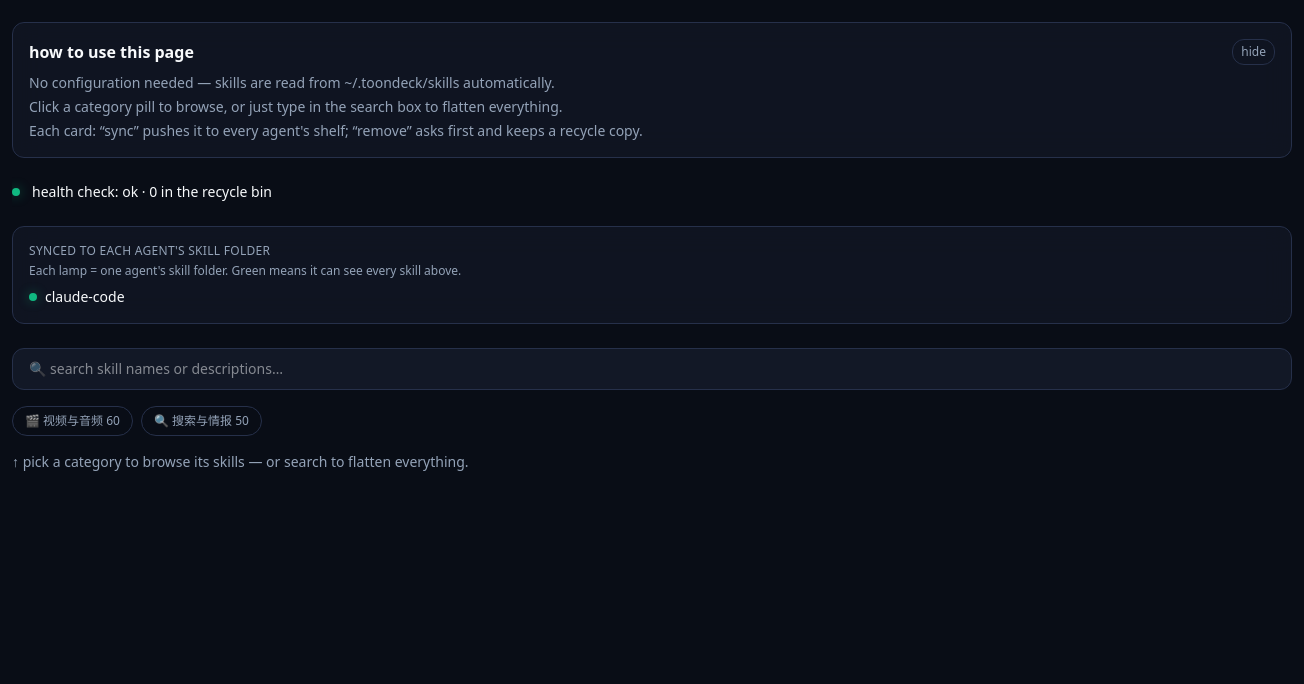
Scenario: N: progressive card windows › switching categories resets the window
Click the button with test id "category-pill-🎬 视频与音频".
click(72, 421)  # box 12,406 -> 133,436
(page scrolled)
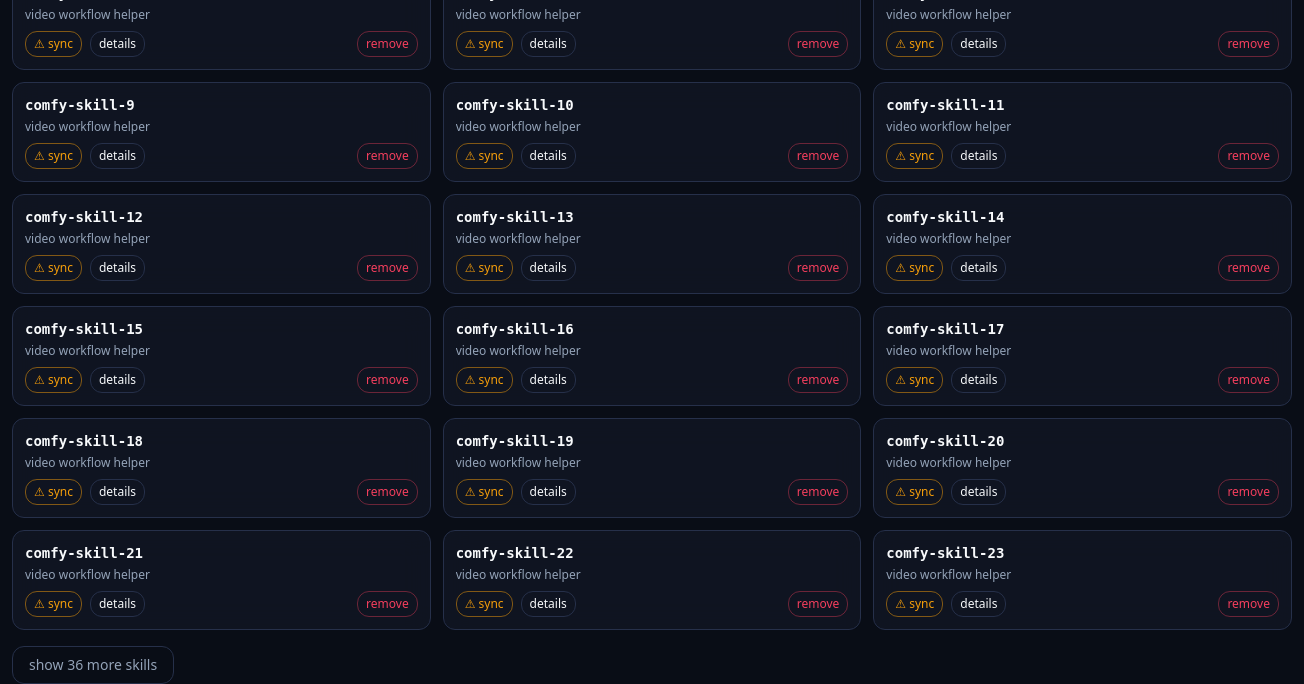
Click the button with test id "show-more-skills".
click(93, 665)  # box 12,646 -> 174,683
(page scrolled)
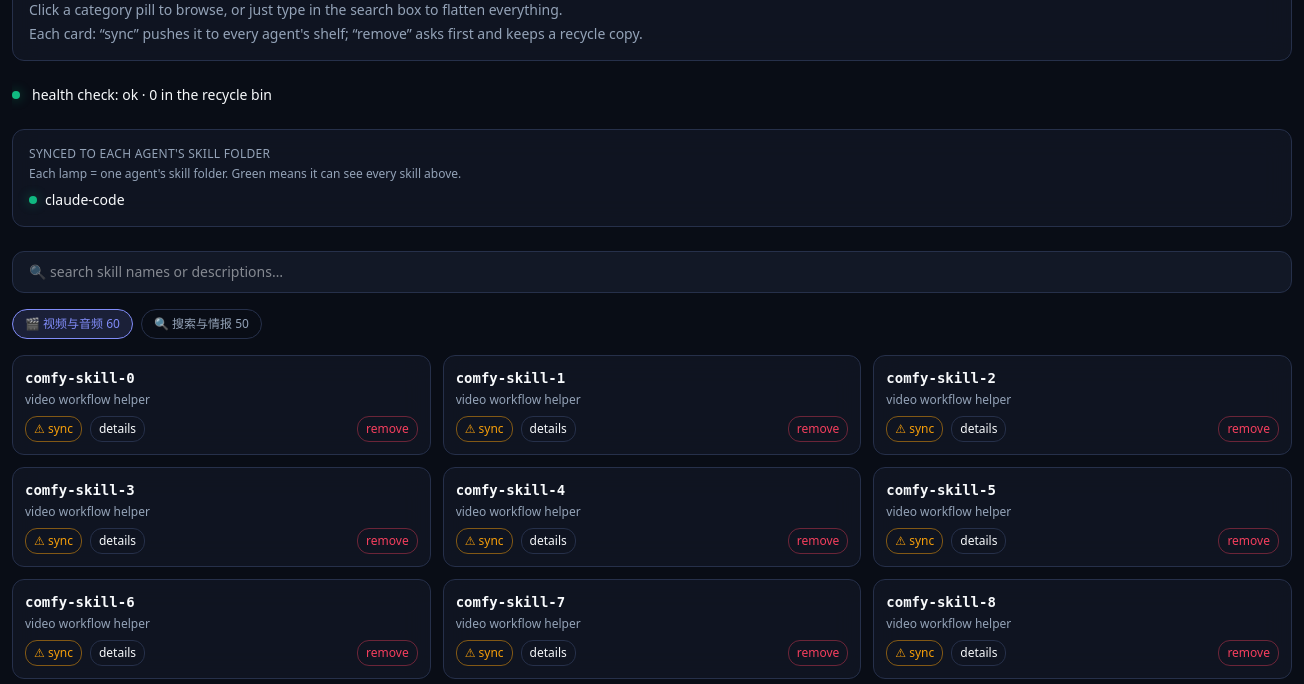
Click the button with test id "category-pill-🔍 搜索与情报".
click(202, 324)  # box 141,309 -> 262,339
(page scrolled)
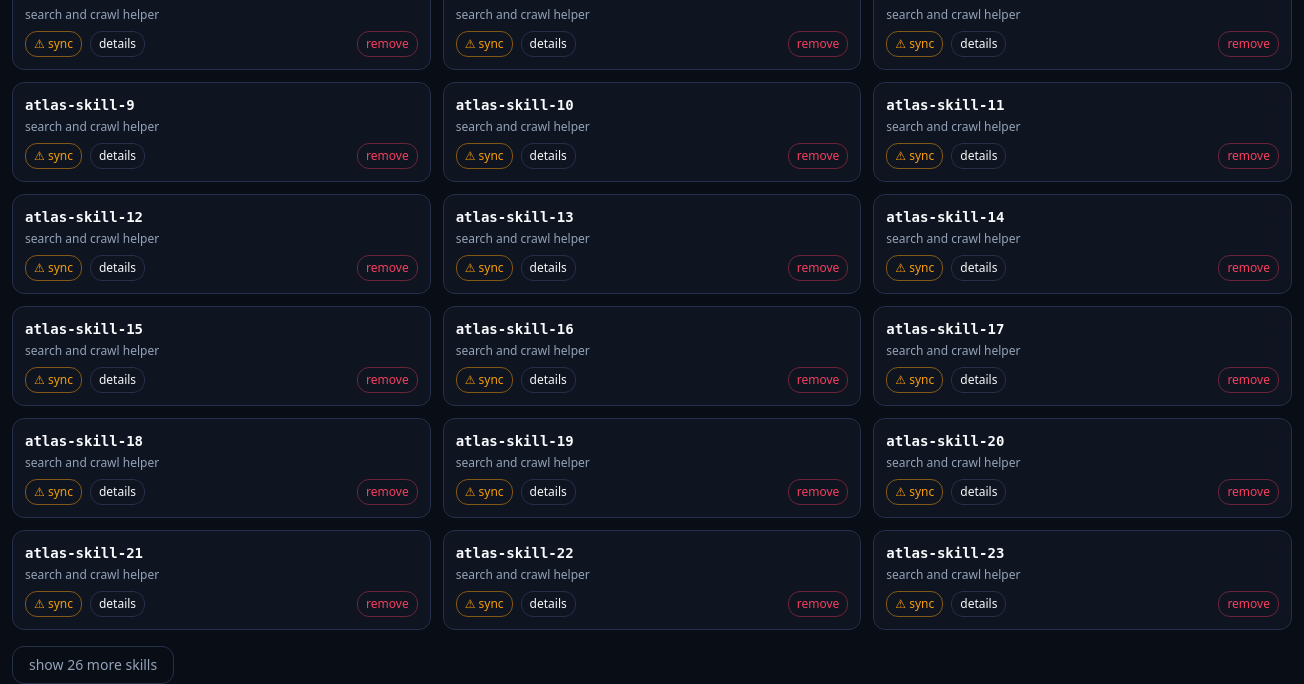
expect the button with test id "show-more-skills" shows "26": met, box 12,646 -> 174,683
